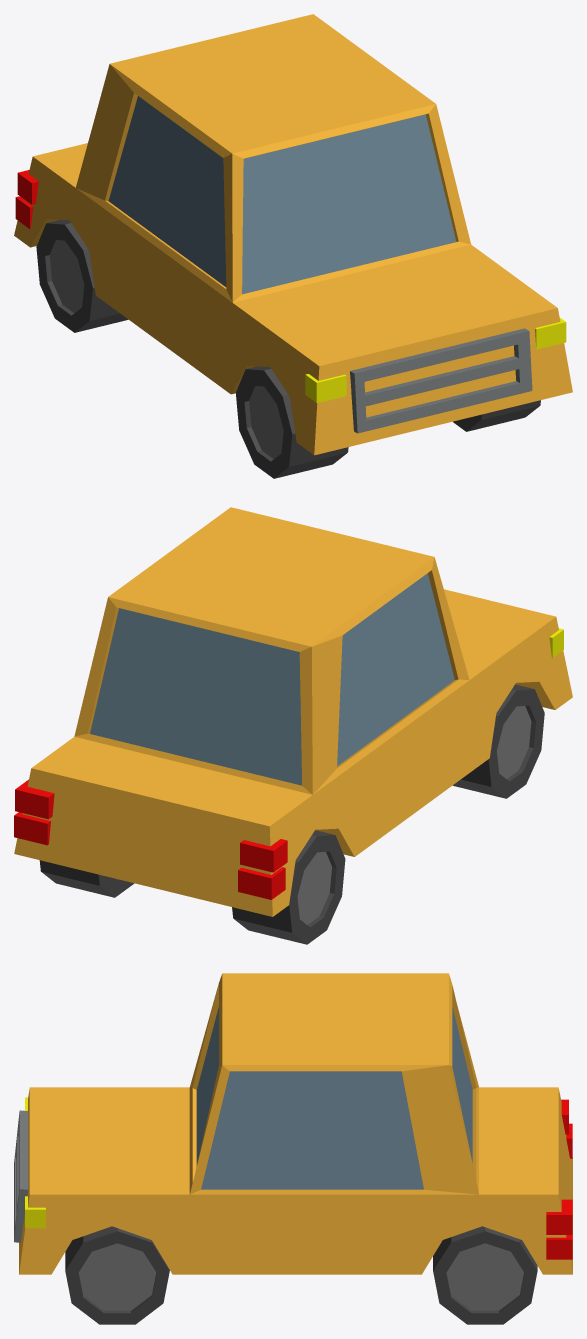
Rendered from Vehicle_Hatchback.fbx.
3 views of the same model, one above another, from view 1: azimuth 30°, elevation 25°; view 2: azimuth 150°, elevation 25°; view 3: azimuth 270°, elevation 25° (orthographic). The views are drawn at different scales.
Parts seen in each view (by area): view 1: Vehicle_Hatchback; view 2: Vehicle_Hatchback; view 3: Vehicle_Hatchback.
Part boxes in pixels (x1,y1,x2,y2): Vehicle_Hatchback: (14,14,572,478); Vehicle_Hatchback: (14,507,572,944); Vehicle_Hatchback: (14,973,572,1324).
Size of the model in its own units: 225 by 224 by 455.
